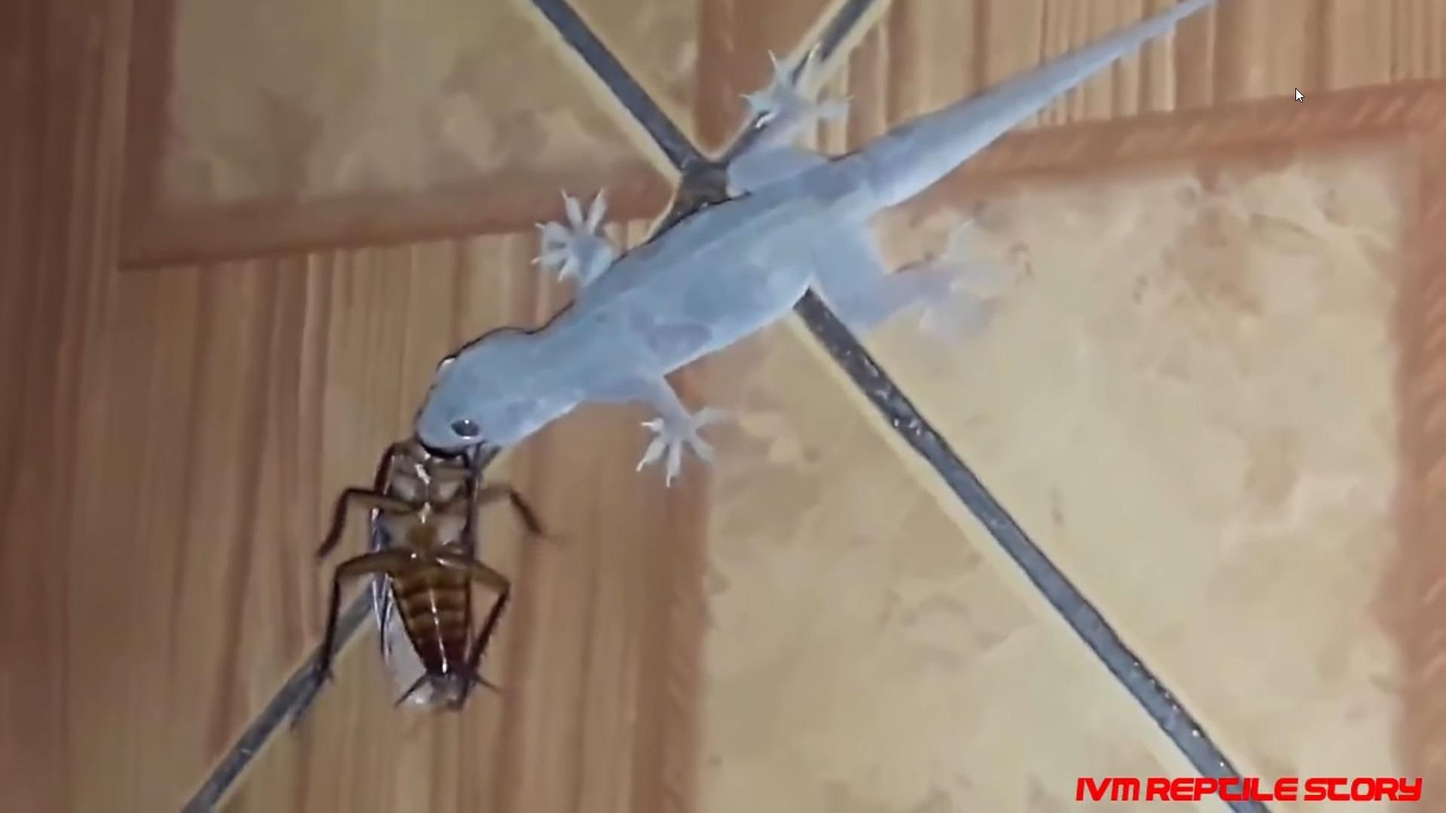cockroach: (314, 459, 553, 711)
lizard: (390, 52, 1035, 500)
